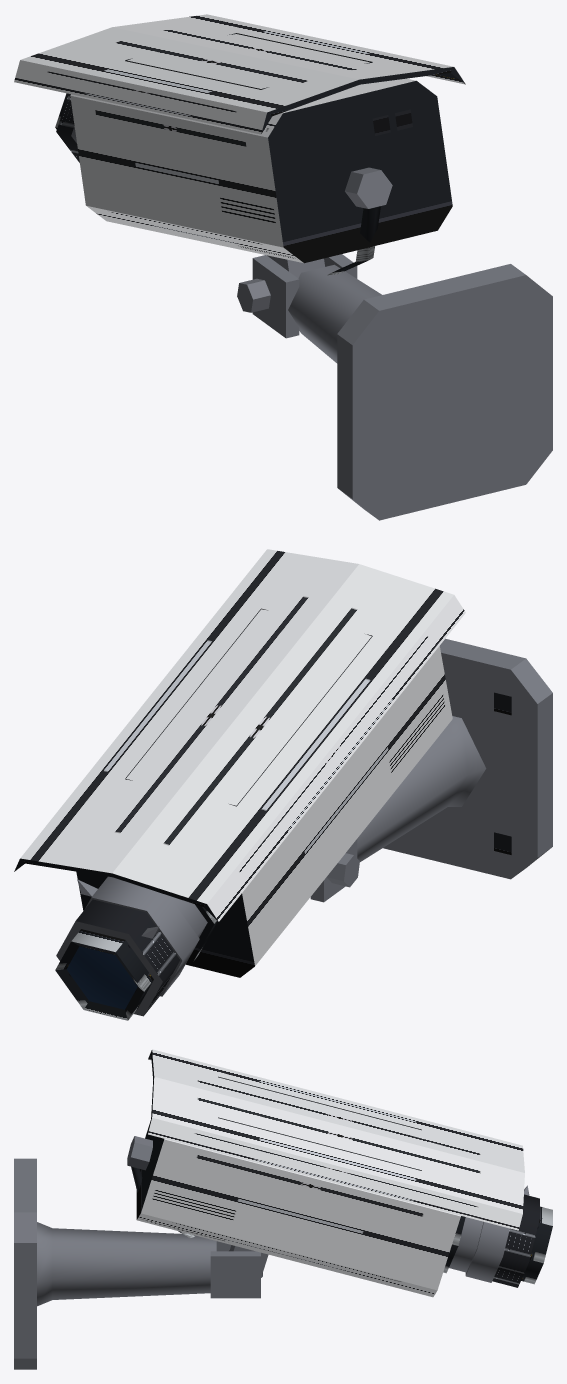
File: SEC_Camera_Box_Wall.fbx
3 views of the same model, one above another, from view 1: azimuth 30°, elevation 25°; view 2: azimuth 150°, elevation 25°; view 3: azimuth 270°, elevation 25° (orthographic). The views are drawn at different scales.
Visible parts, largest first — view 1: Camera_Housing, SEC_Camera_Box_Wall, Mount_Bracket, Lens_Barrel; view 2: Camera_Housing, SEC_Camera_Box_Wall, Lens_Barrel, Lens_Glass, Mount_Bracket; view 3: Camera_Housing, SEC_Camera_Box_Wall, Lens_Barrel.
Boxes of the visible parts, x1,y1,x2,y2 form: Camera_Housing: (14, 14, 465, 275); SEC_Camera_Box_Wall: (252, 254, 552, 520); Mount_Bracket: (237, 255, 324, 312); Lens_Barrel: (55, 93, 79, 162); Camera_Housing: (14, 549, 465, 977); SEC_Camera_Box_Wall: (310, 638, 552, 902); Lens_Barrel: (55, 876, 207, 1020); Lens_Glass: (66, 946, 137, 1009); Mount_Bracket: (326, 853, 359, 887); Camera_Housing: (127, 1049, 524, 1297); SEC_Camera_Box_Wall: (14, 1158, 260, 1369); Lens_Barrel: (449, 1185, 552, 1287).
Bounding box in the file's own units: 9.2 × 15.22 × 27.95.
